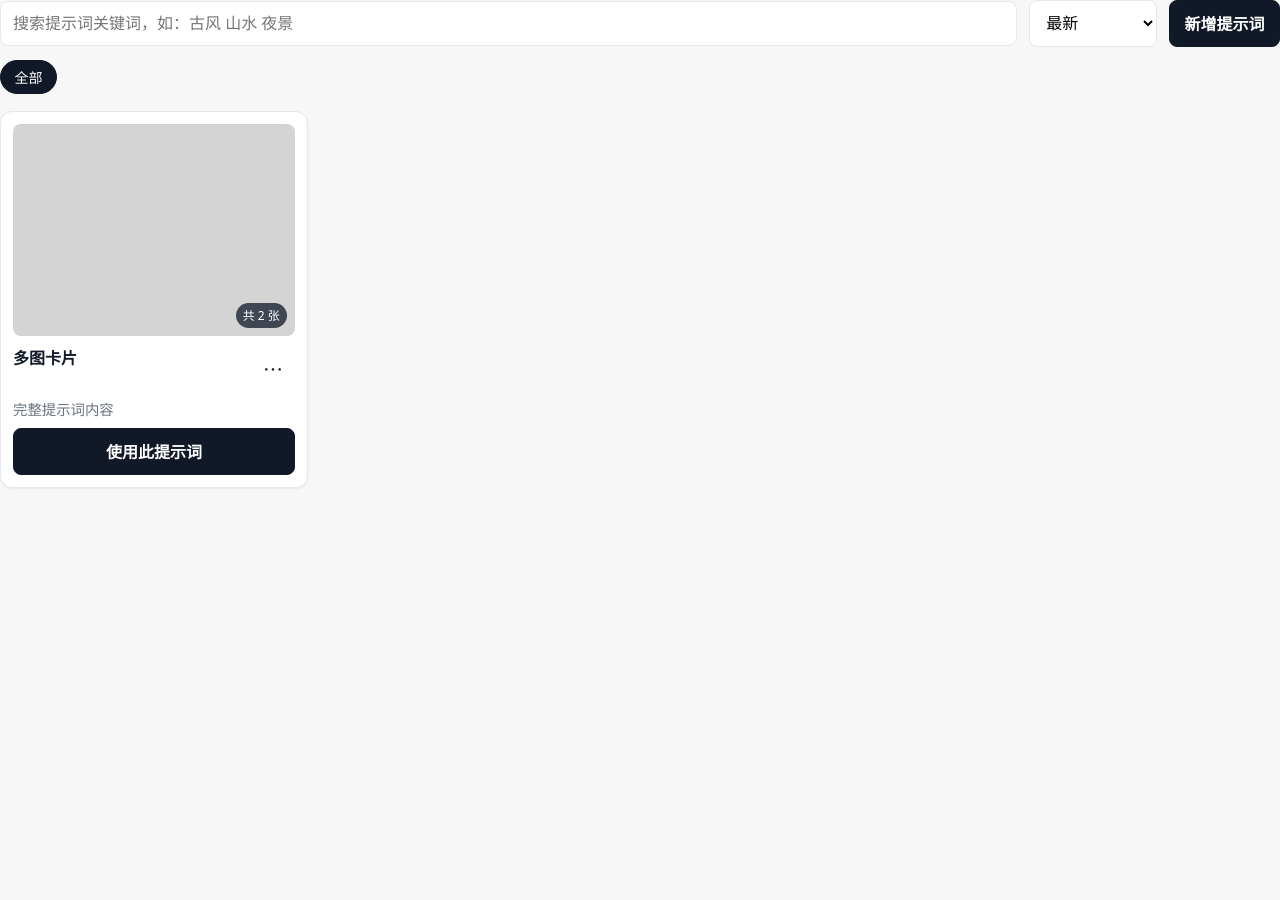
Test case: 全屏预览可关闭
What coordinates should you click on to do the following:
click the button named "预览 多图卡片"
I would click on:
 (154, 230)
Its box is [13,124,295,336].
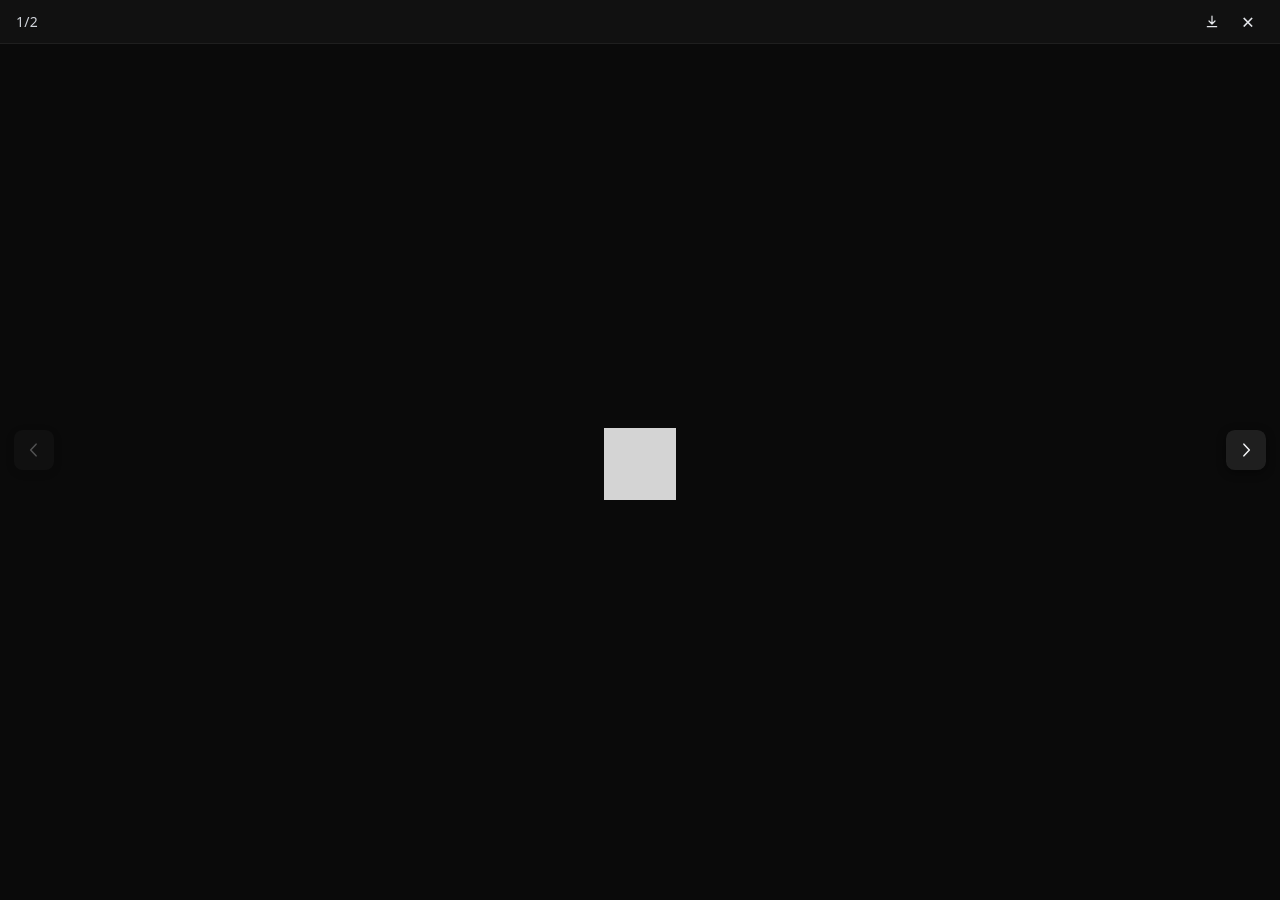
Check: the dialog named "大图预览" is shown
What coordinates should you click on to do the following:
click the button named "关闭预览"
I would click on:
 (1248, 22)
Its box is [1232,6,1264,38].
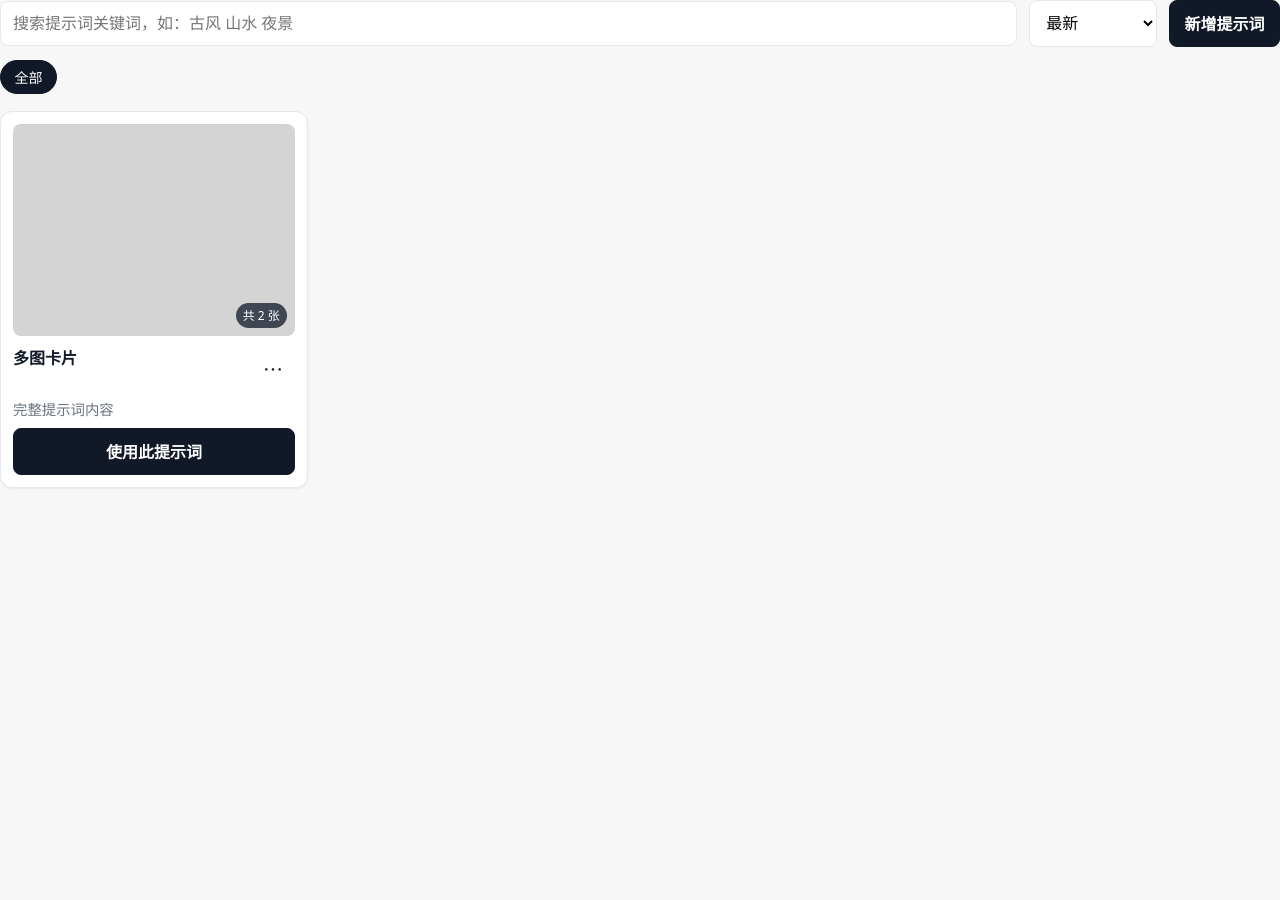
Check: the dialog "大图预览" is gone
